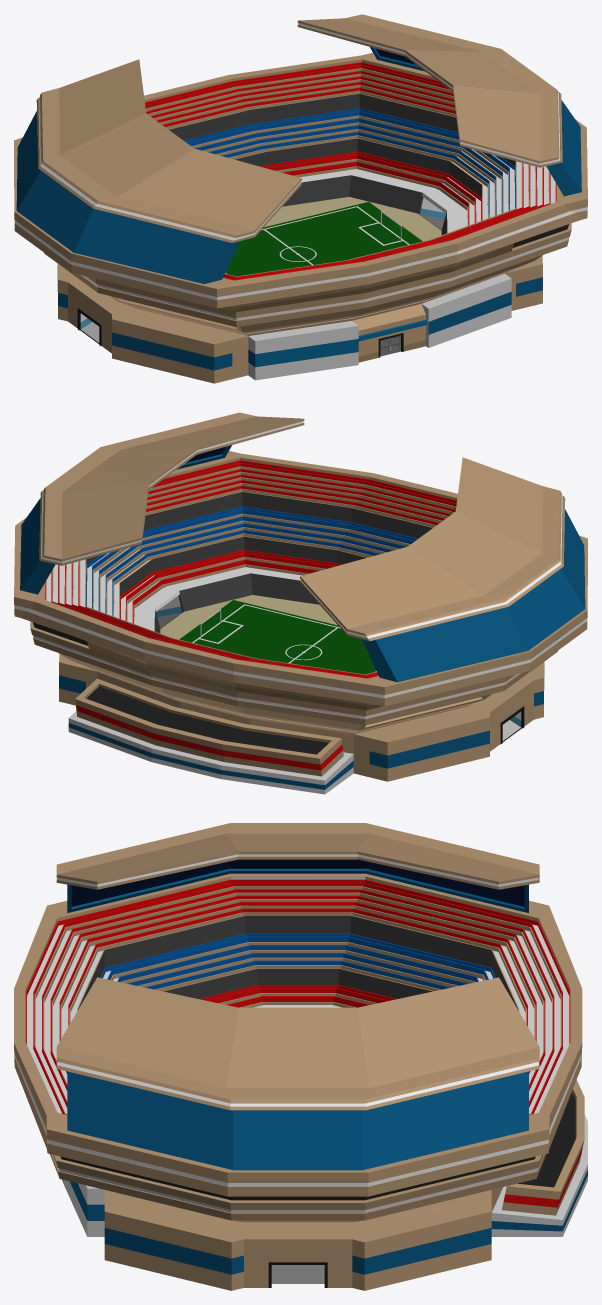
File: Stadium.fbx
3 renders of one model, top to bottom at view 1: azimuth 30°, elevation 25°; view 2: azimuth 150°, elevation 25°; view 3: azimuth 270°, elevation 25°, orthographic. The views are drawn at different scales.
Parts seen in each view (by area): view 1: Stadium; view 2: Stadium; view 3: Stadium.
Boxes of the visible parts, x1=… form: Stadium: x1=14, y1=14, x2=587, y2=383; Stadium: x1=14, y1=412, x2=587, y2=794; Stadium: x1=14, y1=823, x2=587, y2=1290.
Size of what is drawn, in the model's own units: 128 by 44.52 by 100.
